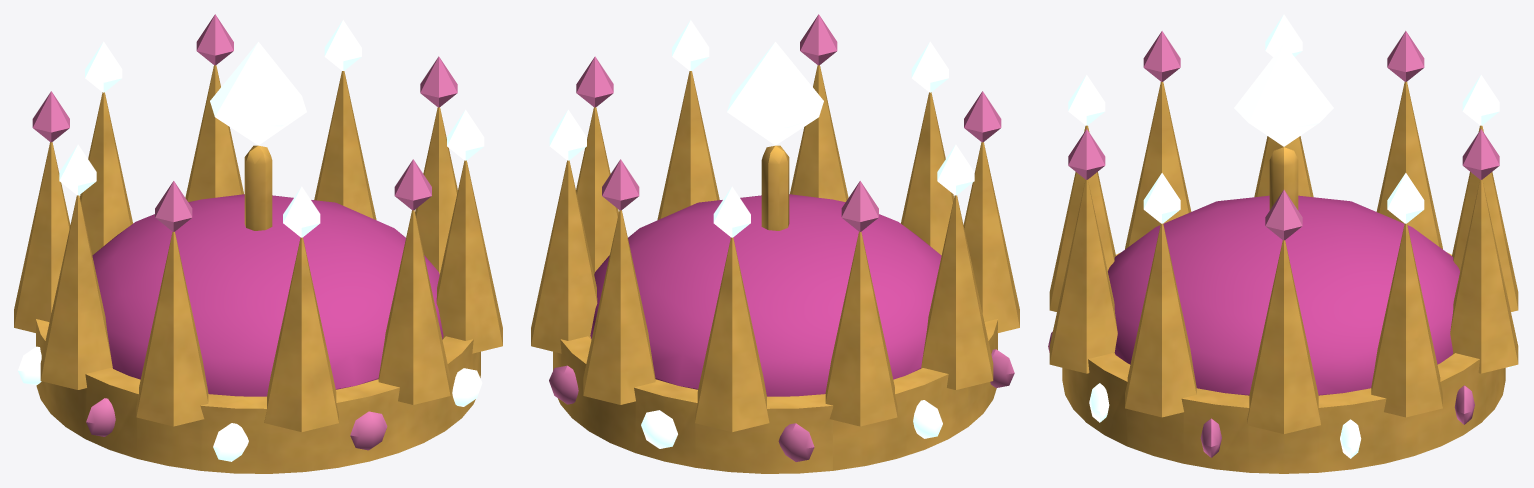
Rendered from citadel_hunt_crown.glb.
The picture shows the model from 3 angles, left to right: view 1: azimuth 30°, elevation 25°; view 2: azimuth 150°, elevation 25°; view 3: azimuth 270°, elevation 25°; orthographic projection.
Visible parts, largest first — view 1: hunt_crown_gold, hunt_crown_velvet, hunt_crown_crystal, hunt_crown_satin_rose; view 2: hunt_crown_gold, hunt_crown_velvet, hunt_crown_crystal, hunt_crown_satin_rose; view 3: hunt_crown_gold, hunt_crown_velvet, hunt_crown_crystal, hunt_crown_satin_rose.
Boxes of the visible parts, <box> form: hunt_crown_gold: <box>14,65,502,473</box>; hunt_crown_velvet: <box>92,194,443,396</box>; hunt_crown_crystal: <box>18,20,484,461</box>; hunt_crown_satin_rose: <box>32,14,457,450</box>; hunt_crown_gold: <box>531,65,1019,473</box>; hunt_crown_velvet: <box>590,194,941,396</box>; hunt_crown_crystal: <box>549,20,974,448</box>; hunt_crown_satin_rose: <box>549,14,1014,461</box>; hunt_crown_gold: <box>1049,81,1518,473</box>; hunt_crown_velvet: <box>1108,195,1459,395</box>; hunt_crown_crystal: <box>1068,14,1519,458</box>; hunt_crown_satin_rose: <box>1048,31,1499,457</box>.
Bounding box in the file's own units: 0.7 × 0.52 × 0.6599.
Materials: 4 (1 with a texture image).
